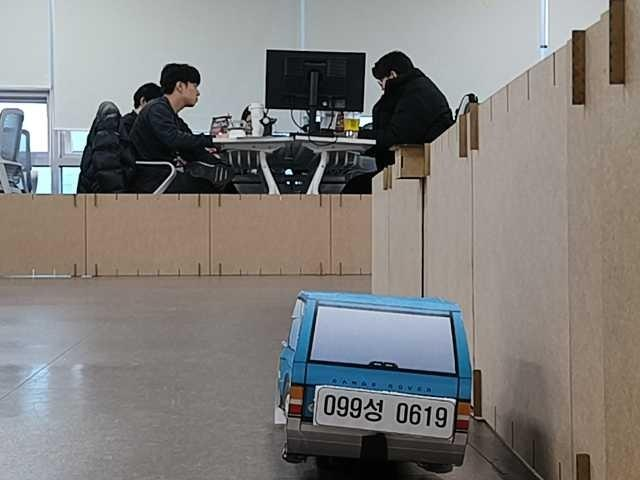car: (277, 286, 470, 473)
id: (313, 385, 452, 439)
